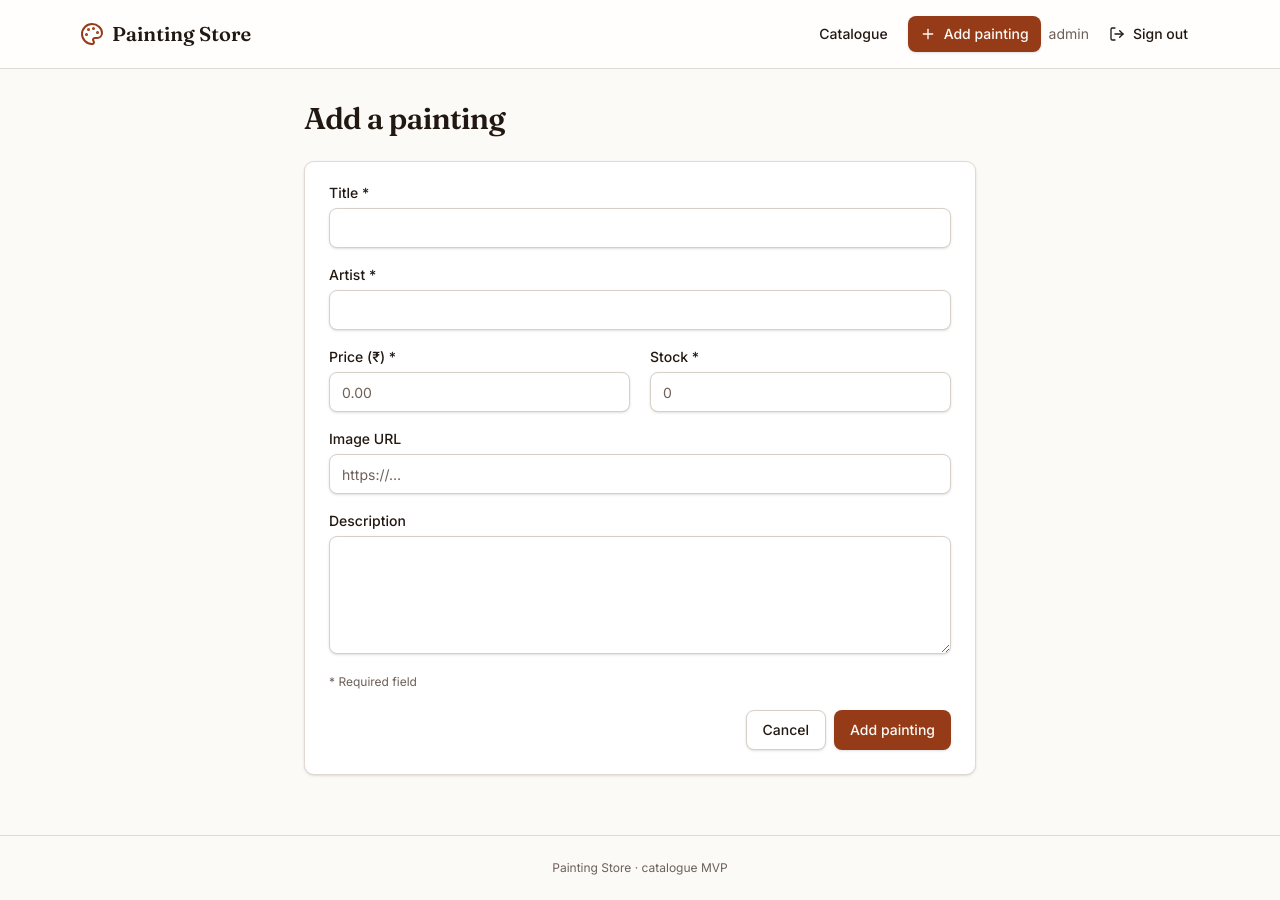
Test: CreatePaintingPage › shows server validation errors next to the field
Type "A" into the field labelled "Title *" at {"x": 640, "y": 228}, box [329,208,951,248]
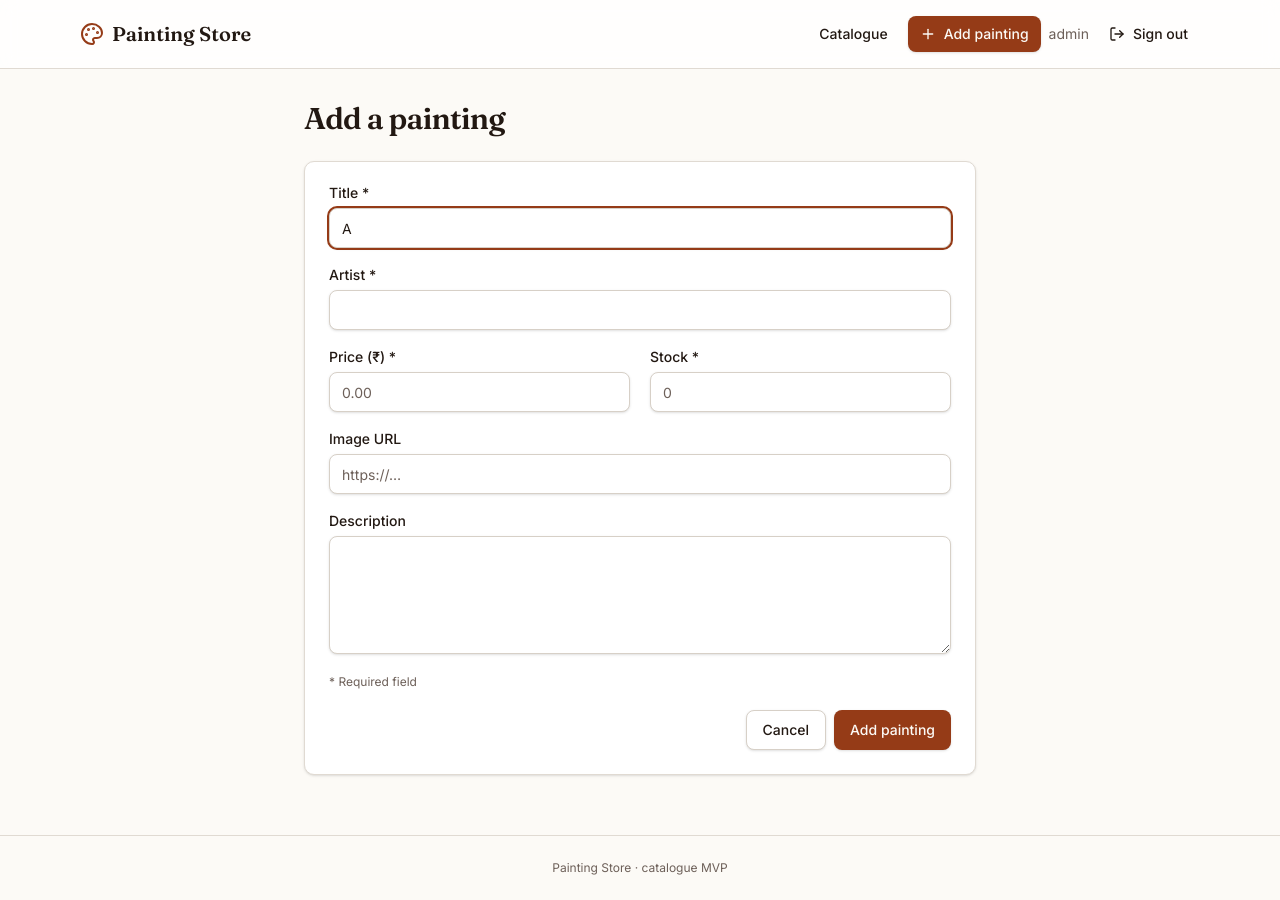
Type "B" into the field labelled "Artist *" at {"x": 640, "y": 310}, box [329,290,951,330]
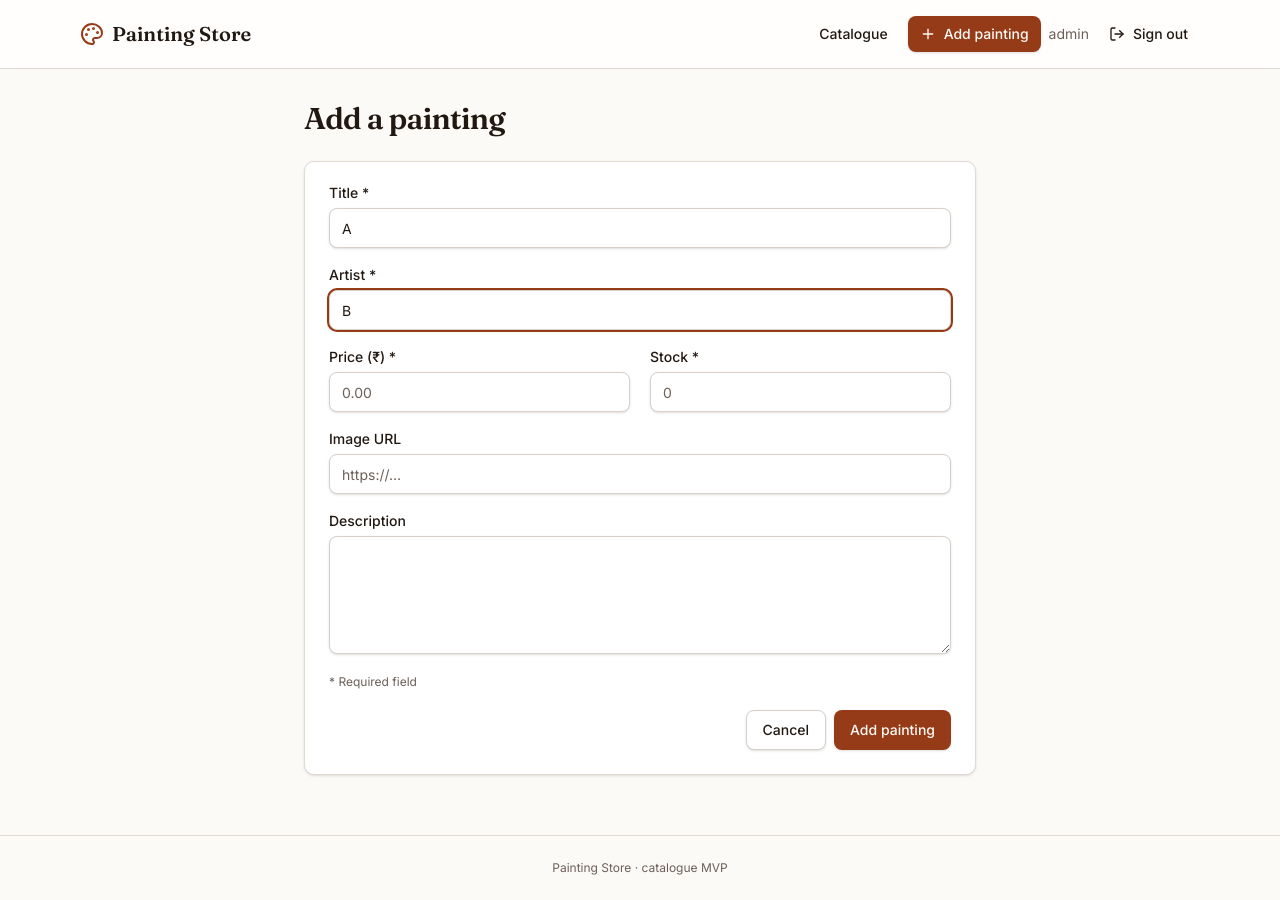
Type "1" into the field labelled "Price (₹) *" at {"x": 480, "y": 392}, box [329,372,630,412]
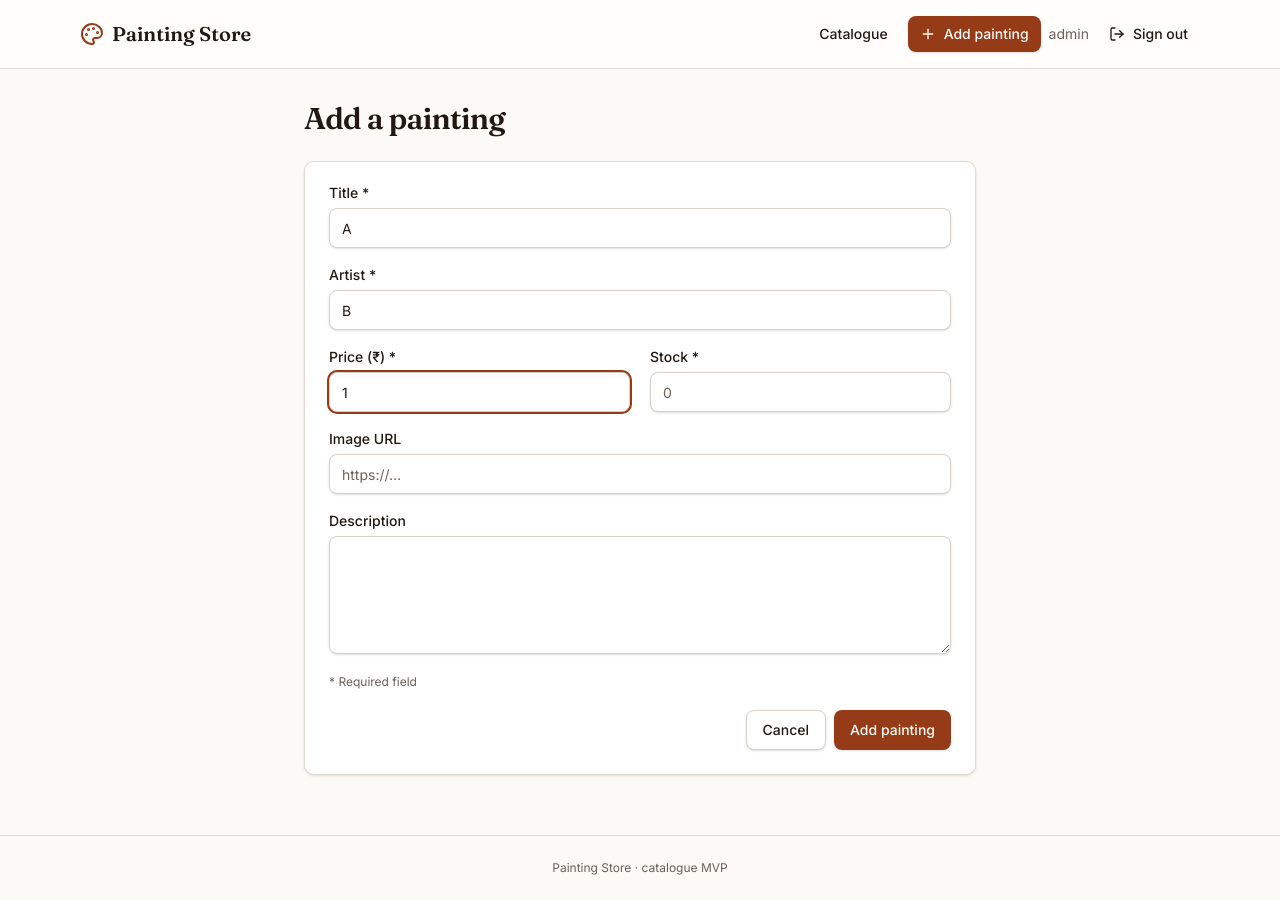
Type "1" into the field labelled "Stock *" at {"x": 800, "y": 392}, box [650,372,951,412]
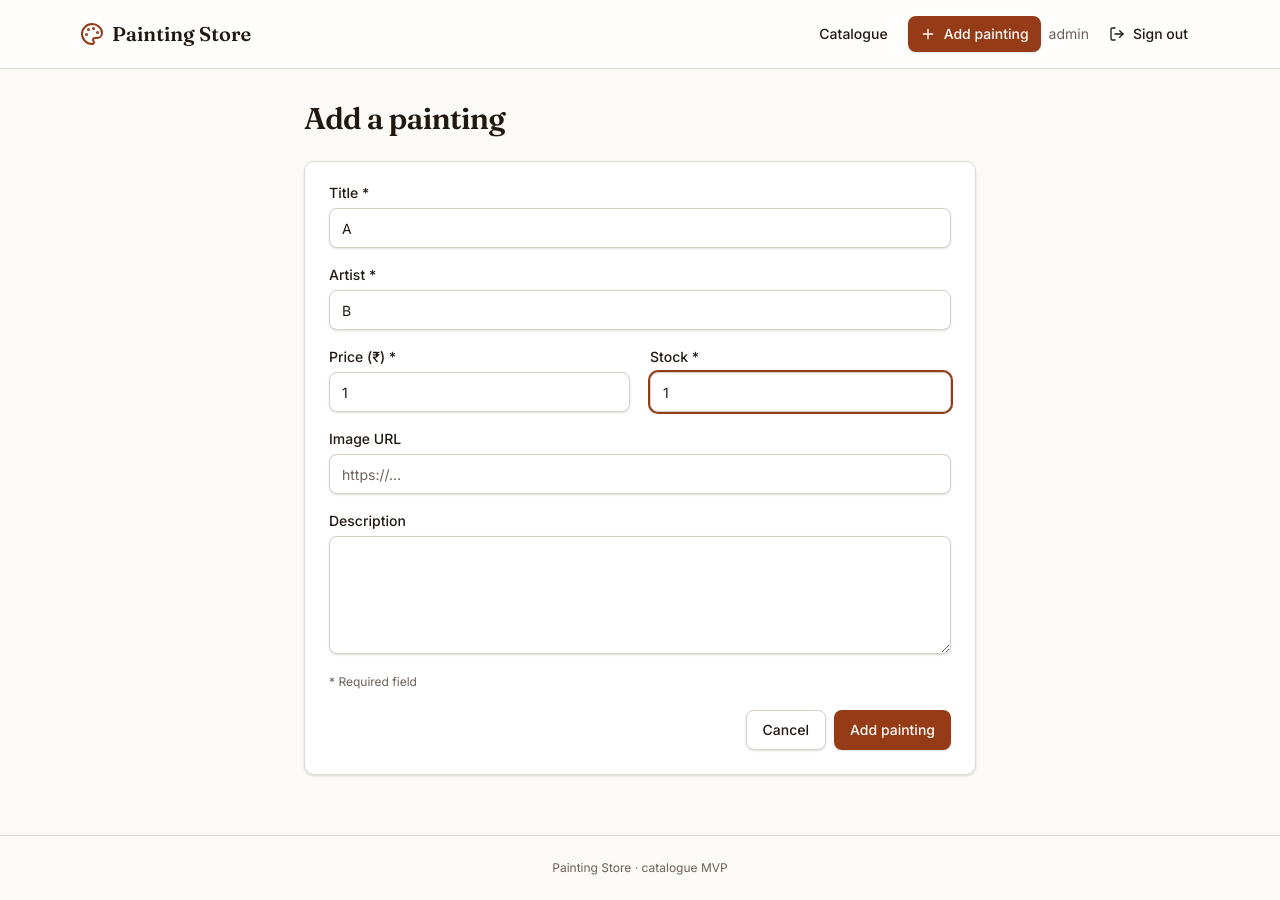
Click the button "Add painting" at {"x": 892, "y": 730}, box [834,710,951,750]
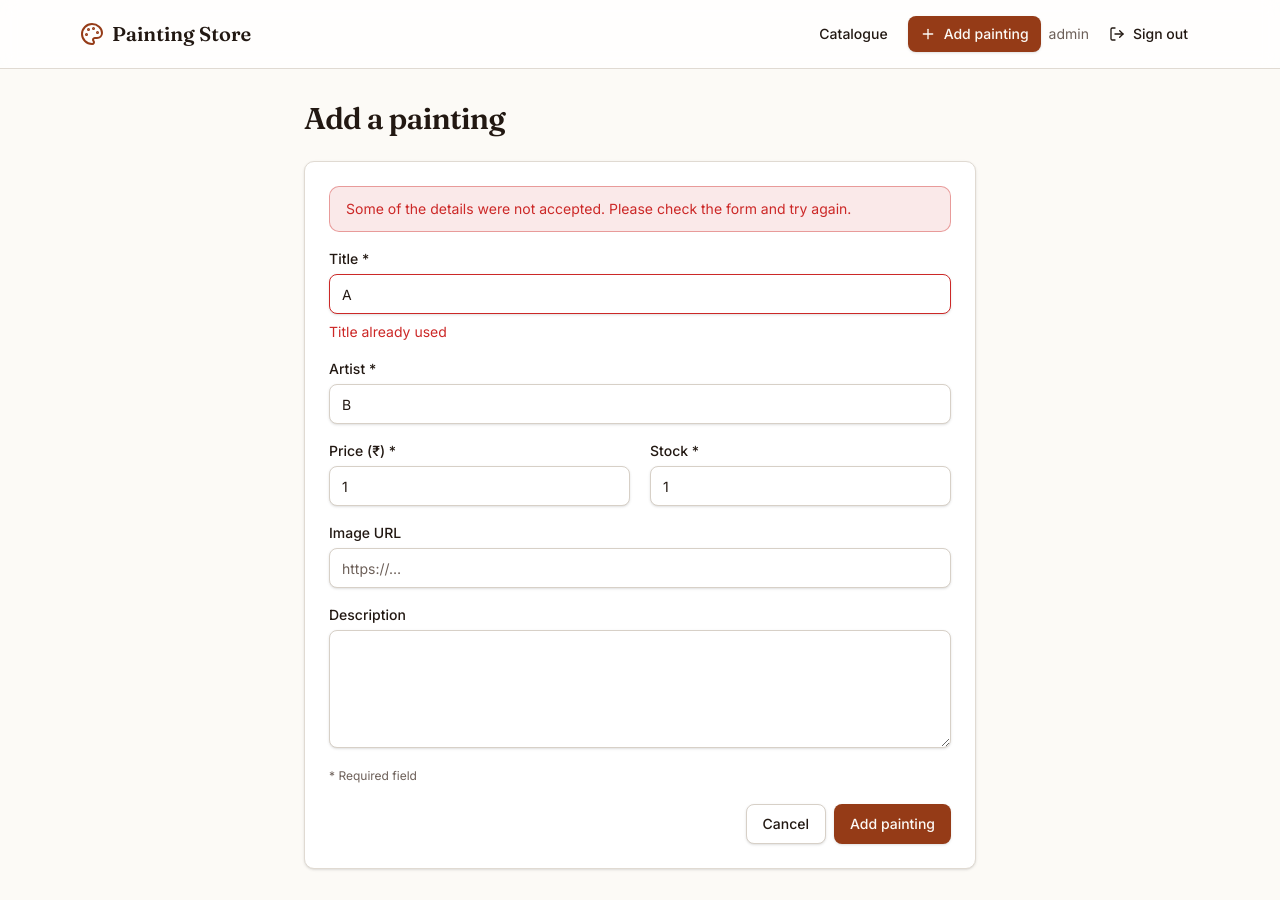
Result: the message shows "not accepted" at [346,200,851,217]
